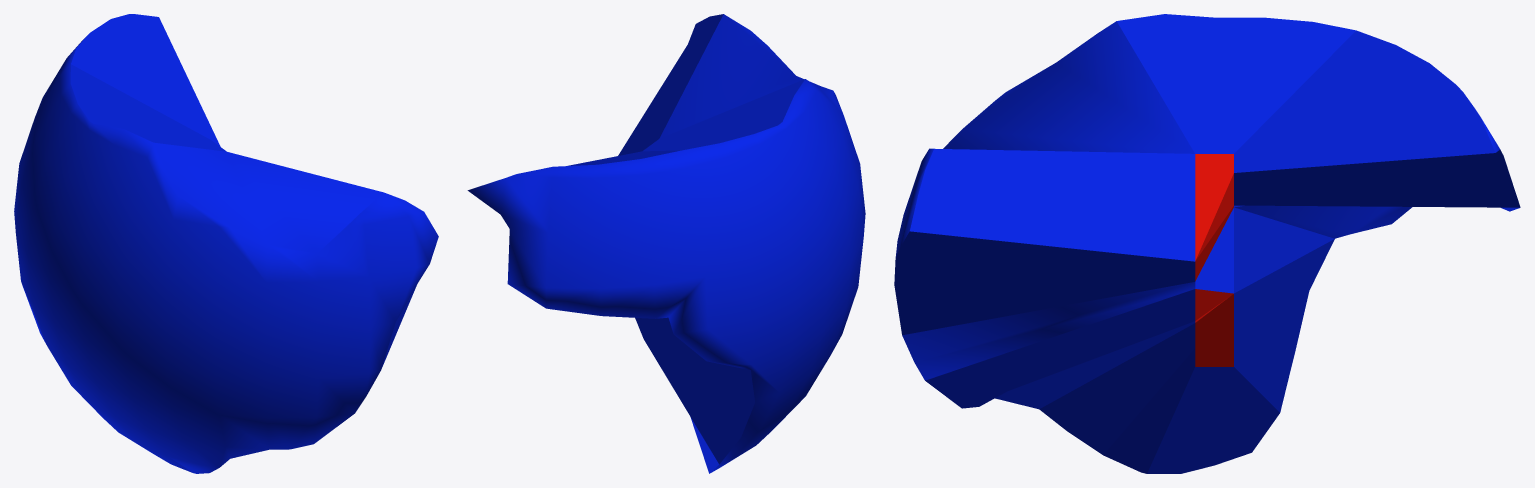
File: Orbe_Cross_F4.fbx
3 views of the same model, side by side, from view 1: azimuth 30°, elevation 25°; view 2: azimuth 150°, elevation 25°; view 3: azimuth 270°, elevation 25° (orthographic). The views are drawn at different scales.
Parts seen in each view (by area): view 1: Orbe_Cross_F4; view 2: Orbe_Cross_F4; view 3: Orbe_Cross_F4.
Boxes of the visible parts, left/top/right/bottom form: Orbe_Cross_F4: left=14, top=14, right=438, bottom=473; Orbe_Cross_F4: left=467, top=14, right=865, bottom=473; Orbe_Cross_F4: left=894, top=14, right=1520, bottom=473.
Bounding box in the file's own units: 112 × 145 × 194.
